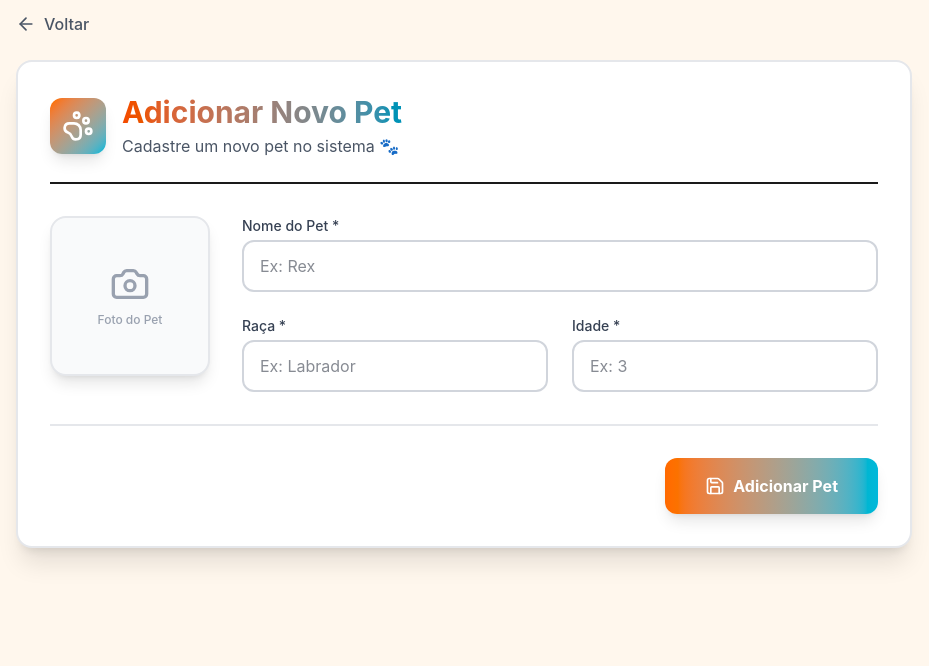
Test: PetAdd › exibe erro se a criação do pet falhar
The width and height of the screenshot is (929, 666).
In the field labelled "Nome do Pet *": coordinates (560, 266) [242,240,878,292], type "Rex"
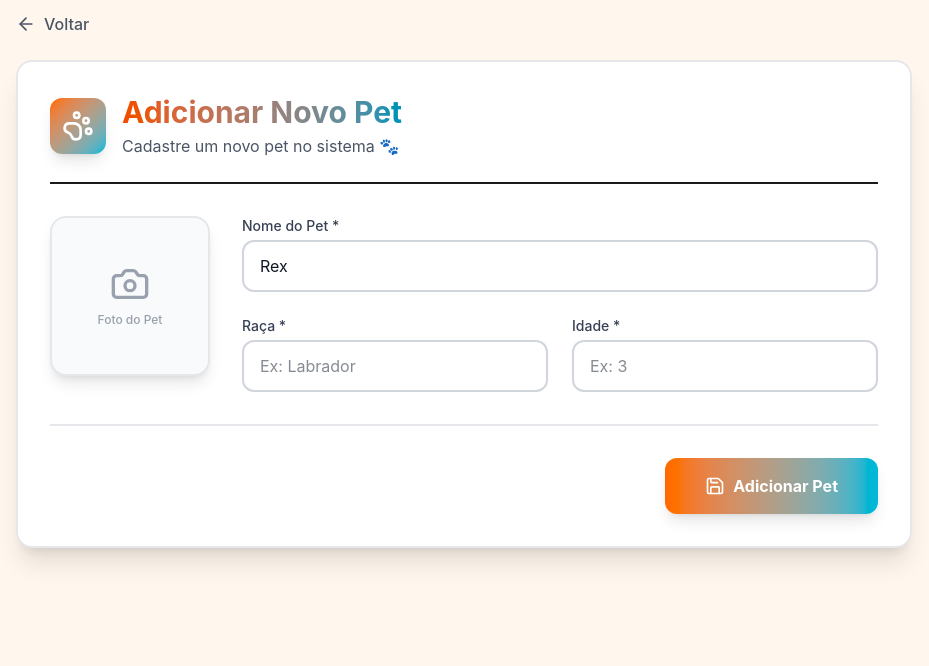
In the field labelled "Raça *": coordinates (395, 366) [242,340,548,392], type "SRD"
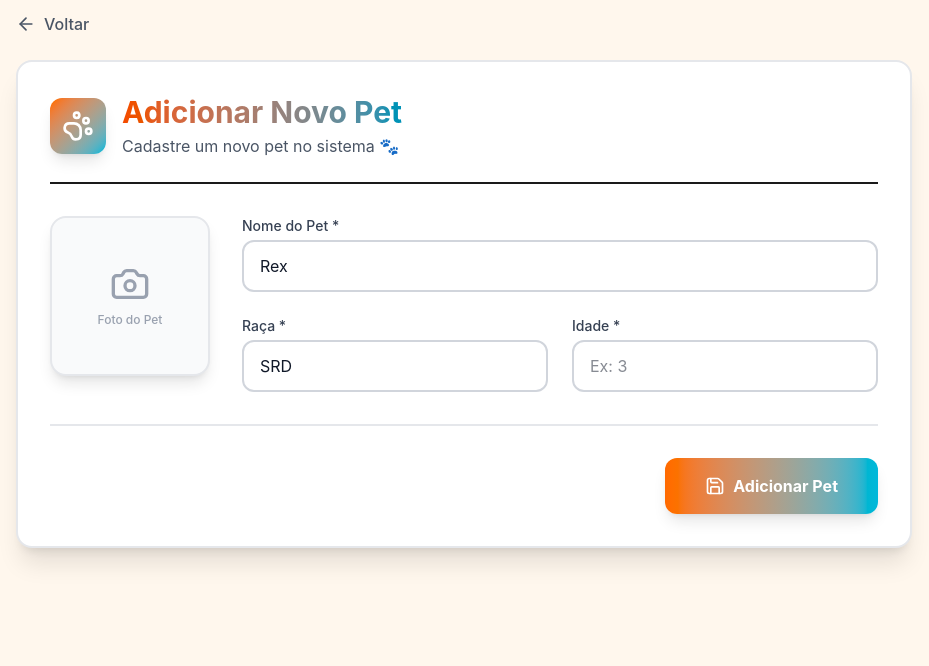
In the number field labelled "Idade *": coordinates (725, 366) [572,340,878,392], type "3"
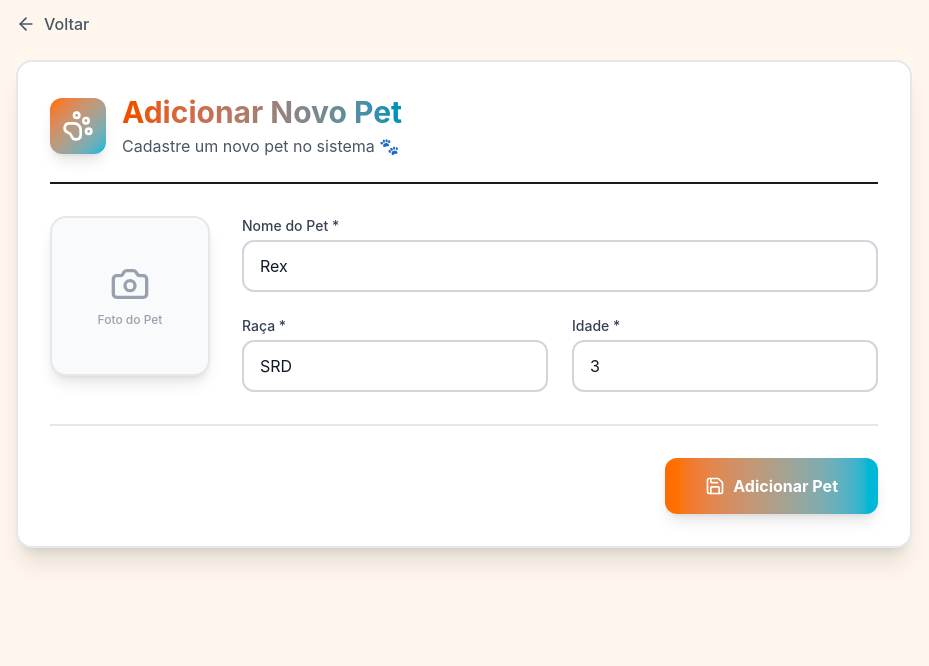
Click the button "Adicionar Pet": coordinates (772, 486) [665,458,878,514]
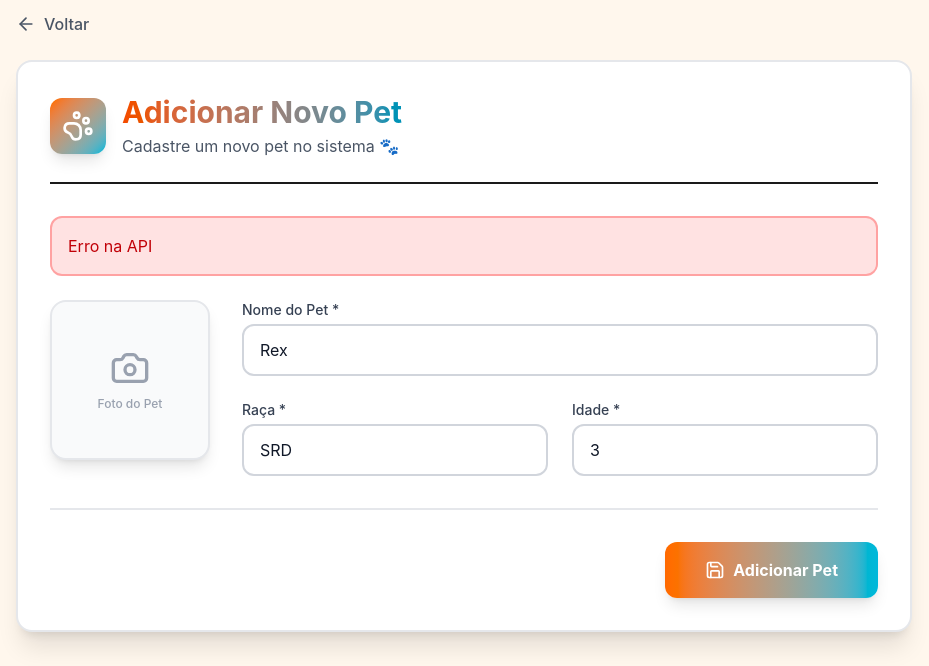
Expected: the message reads "Erro na API", [68,236,152,256]
